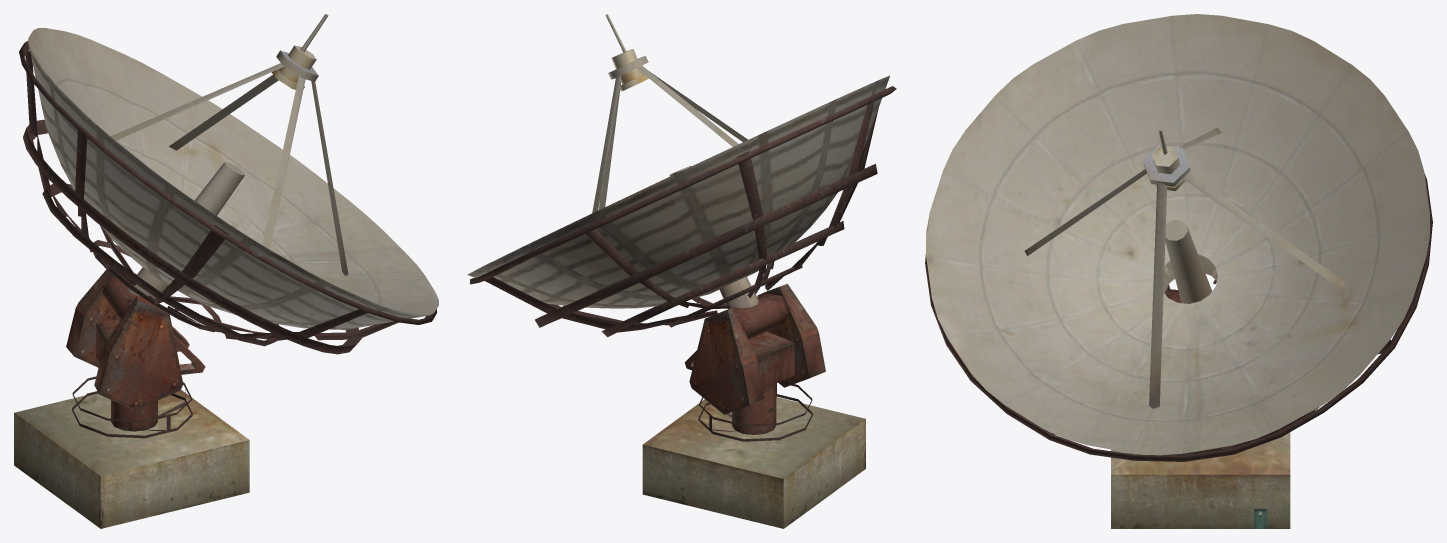
The model's file is radar_statsion.gltf.
The picture shows the model from 3 angles, left to right: view 1: azimuth 30°, elevation 25°; view 2: azimuth 150°, elevation 25°; view 3: azimuth 270°, elevation 25°; orthographic projection. The views are drawn at different scales.
Parts seen in each view (by area): view 1: radar_statsion02; view 2: radar_statsion02; view 3: radar_statsion02.
Part boxes in pixels (bbox=[...]): radar_statsion02: bbox=[14, 14, 438, 528]; radar_statsion02: bbox=[467, 14, 896, 528]; radar_statsion02: bbox=[925, 14, 1432, 528].
Size of the model in its own units: 21.77 by 25.25 by 25.79.
Materials: 1 (1 with a texture image).
